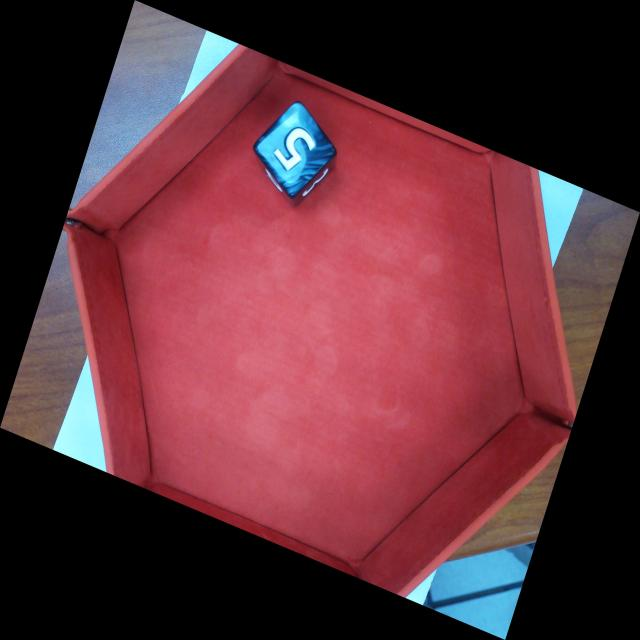dice: (255, 103, 339, 200)
